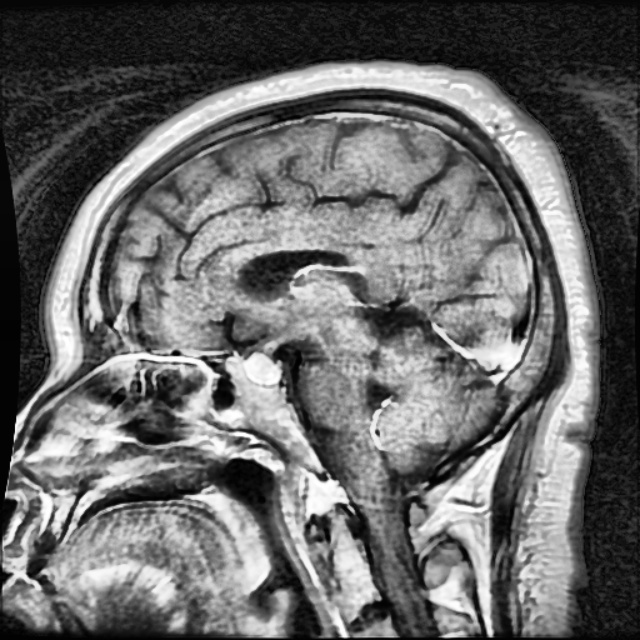Pituitary: (247, 354, 280, 382)
